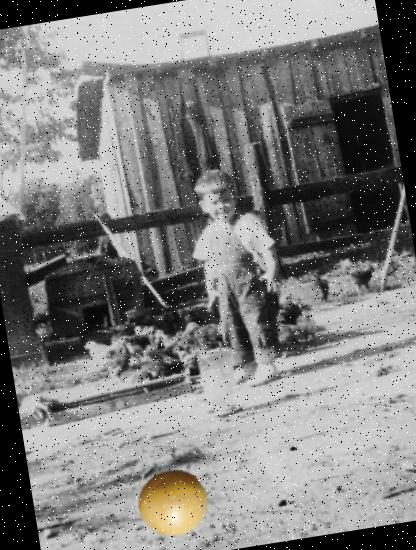Grapefruit: (134, 462, 216, 544)
